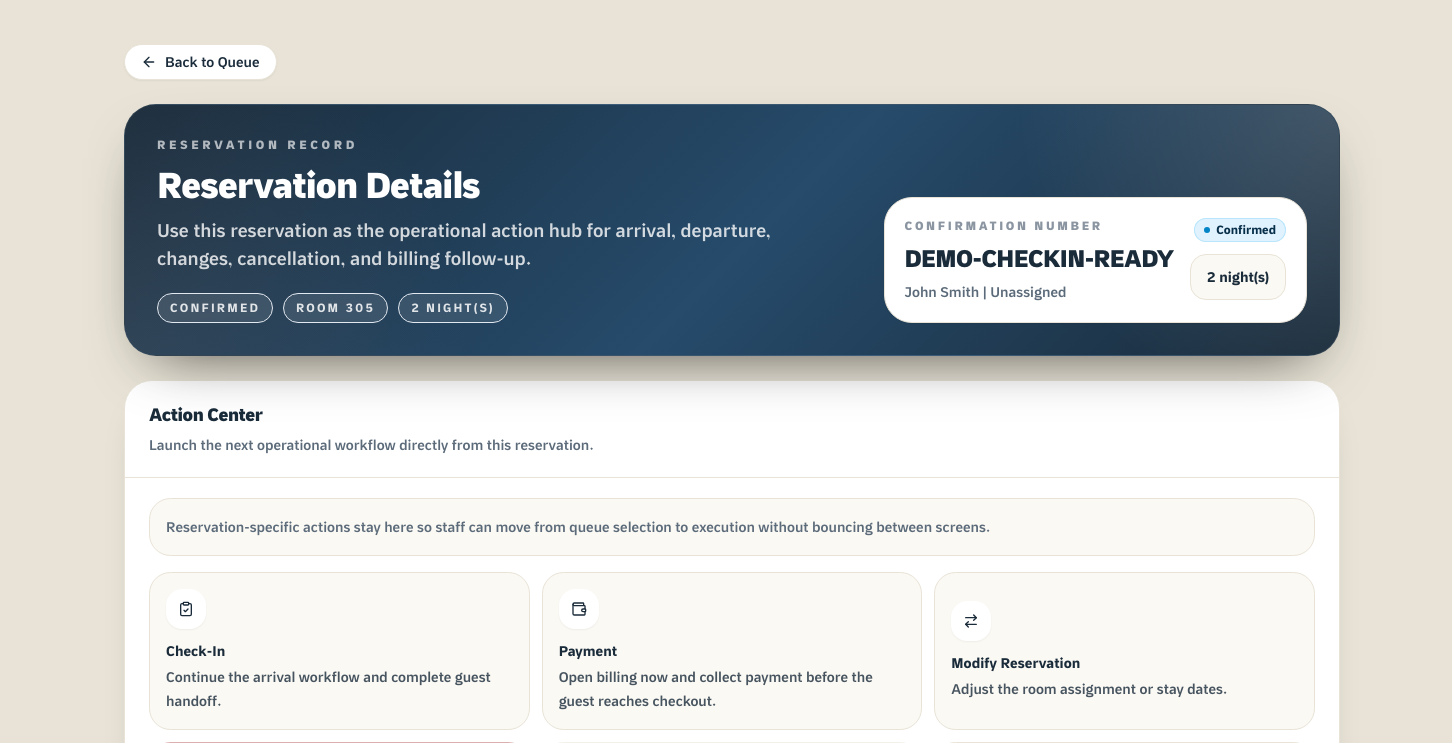
it: ReservationDetails › routes /checkout through explicit confirmation filters
Expected: the heading "Reservation Details" is shown, [157, 162, 480, 207]
Click the button "Payment Open billing now and collect payment" at (579, 609), box [542, 572, 922, 730]
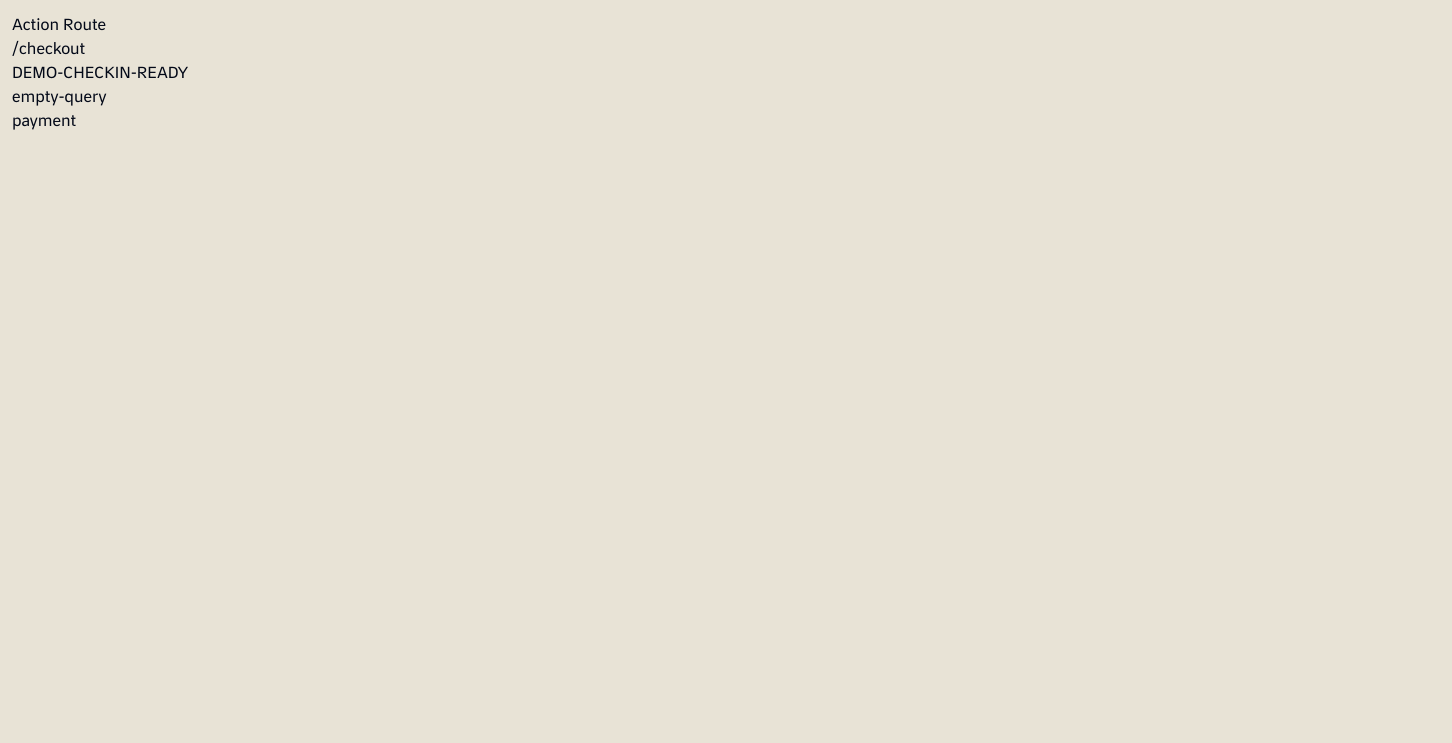
Now the text "Action Route" is shown, box [12, 14, 106, 34]
Now the text "/checkout" is shown, box [12, 38, 85, 58]
Now the text "empty-query" is shown, box [12, 86, 106, 106]
